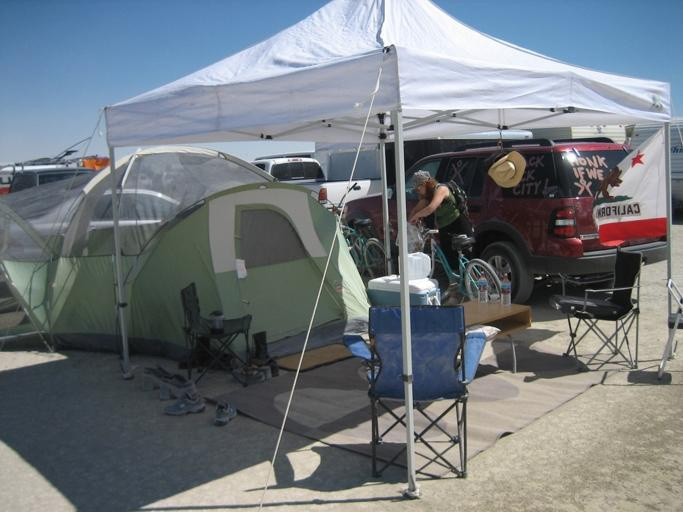non-vehicle: (416, 218, 500, 302), (326, 182, 395, 278)
